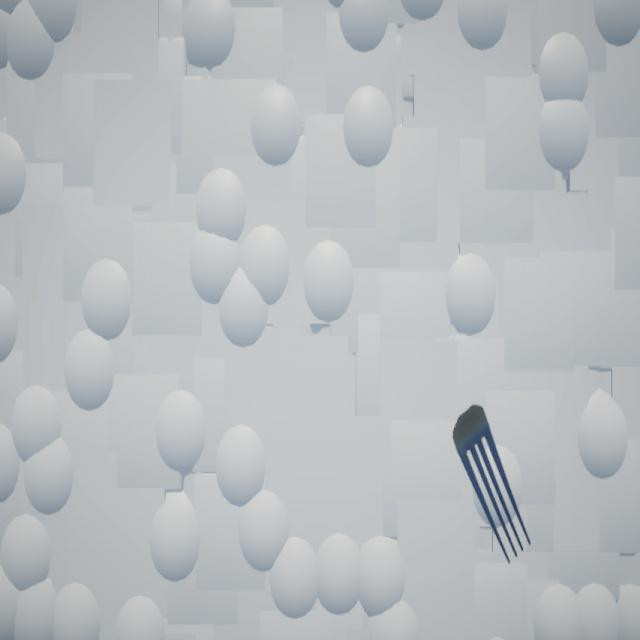top_folk: (454, 406, 533, 565)
